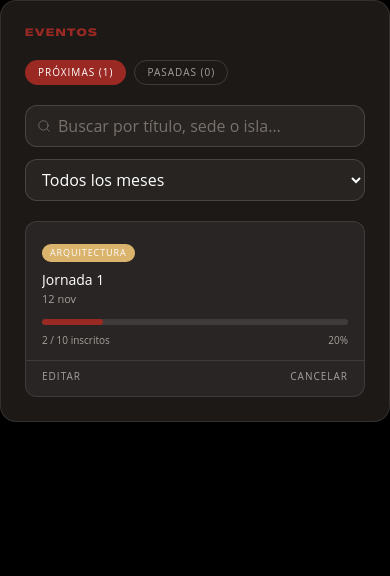
Scenario: ControlAsistentes — quitar a un inscrito › móvil: las tarjetas no tienen "Quitar" hasta pulsar Gestionar, y Listo lo vuelve a ocultar
Click the text "Jornada 1" at (73, 279), box [42,270,104,288]
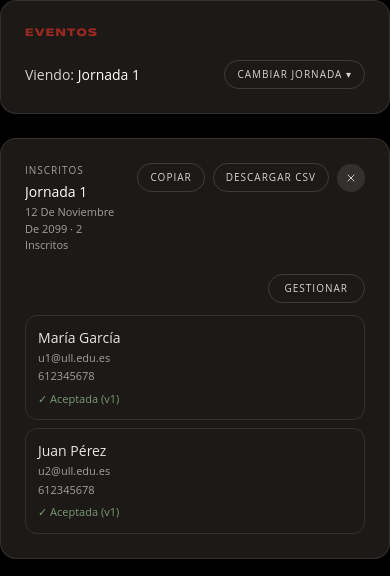
Click the button "Gestionar" at (316, 288), box [268,274,365,302]
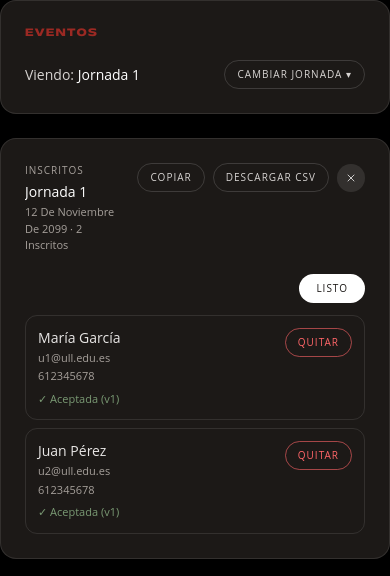
Result: the number of buttons named "Quitar a " is 2 at [285,328,352,356]; [285,441,352,470]
Click the button "Listo" at (332, 288), box [299,274,365,302]
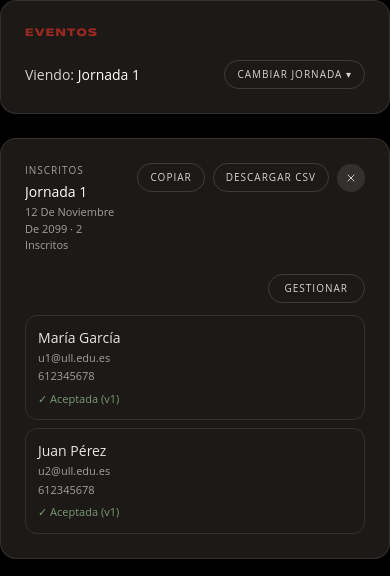
Result: no the button "Quitar" are shown
